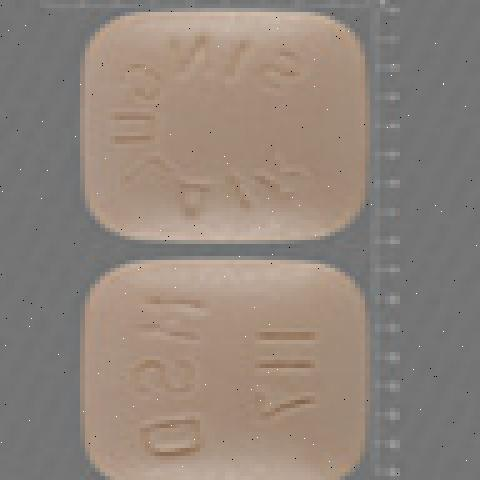Pill: (35, 238, 380, 480), (46, 11, 384, 247)
